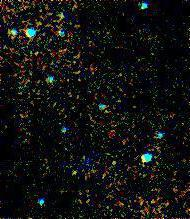star: (60, 158, 90, 188)
